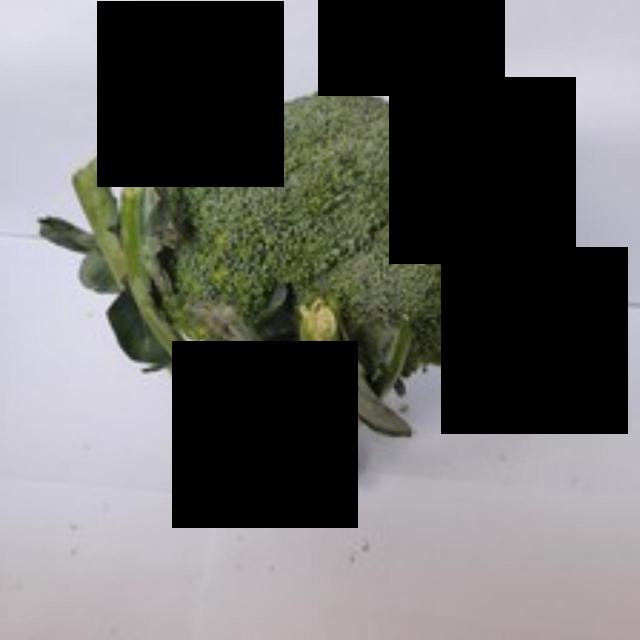broccoli: (68, 78, 559, 520)
